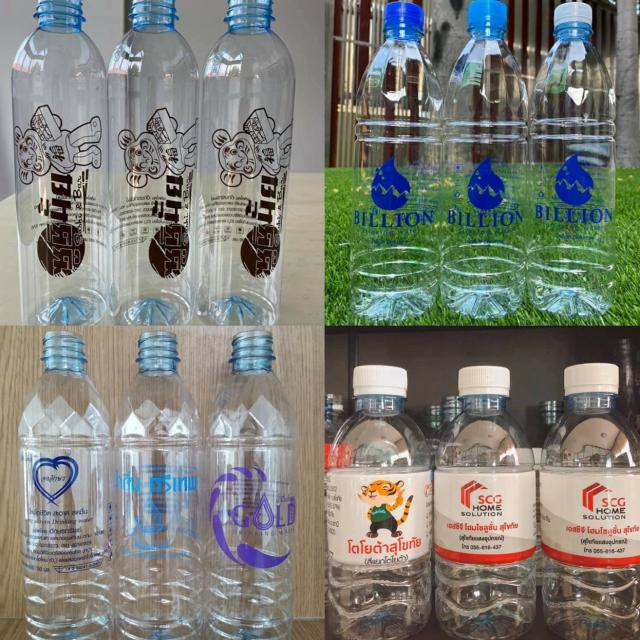plastik: (196, 0, 295, 324), (13, 0, 108, 325), (108, 0, 199, 325), (19, 331, 114, 640), (350, 3, 441, 321), (327, 365, 432, 640), (205, 331, 298, 640), (434, 365, 537, 640), (440, 1, 528, 318), (540, 363, 640, 640), (528, 3, 615, 318), (115, 332, 201, 640)
